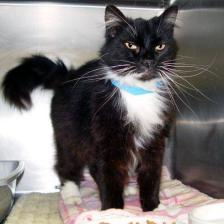cat: (96, 3, 200, 85)
